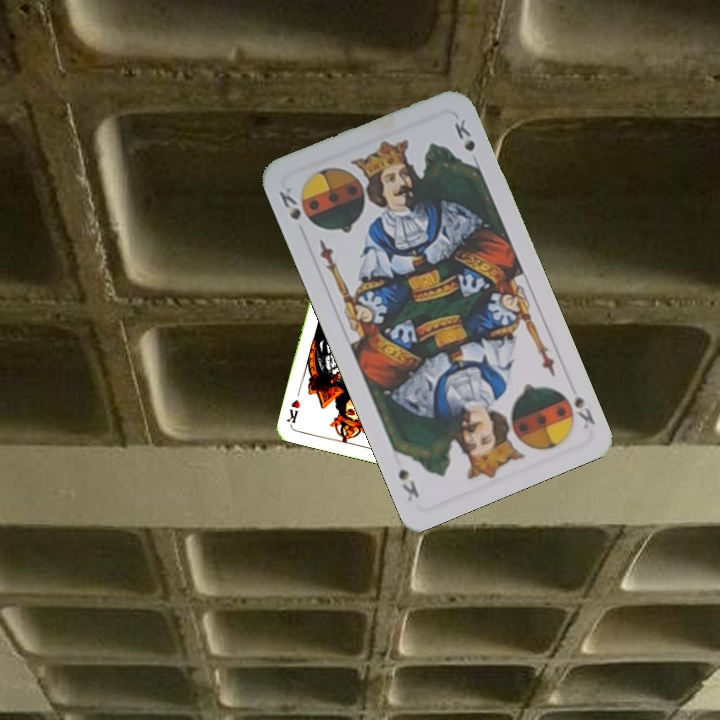SK: (556, 377, 598, 431), (275, 183, 304, 223)
